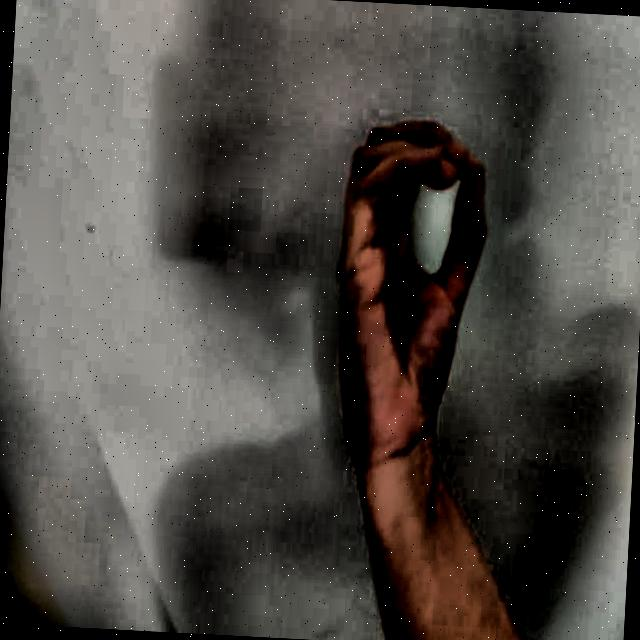O: (294, 87, 510, 500)
